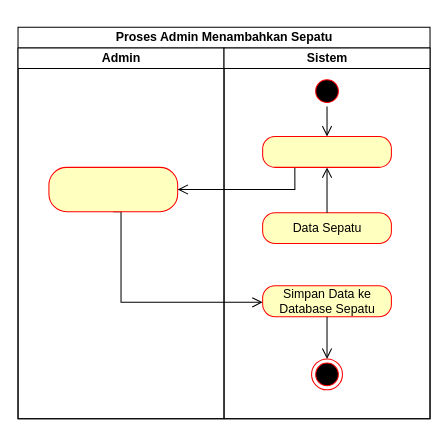
The diagram is 448 pixels wide and 437 high, and some of its shapes have lost their labels. Here are the shapes that lost their labels. From the top down, the centre of each, then its label:
the point at 326,151: Page CRUD
the point at 113,189: Input Data Sepatu yang ingin ditambahkan
